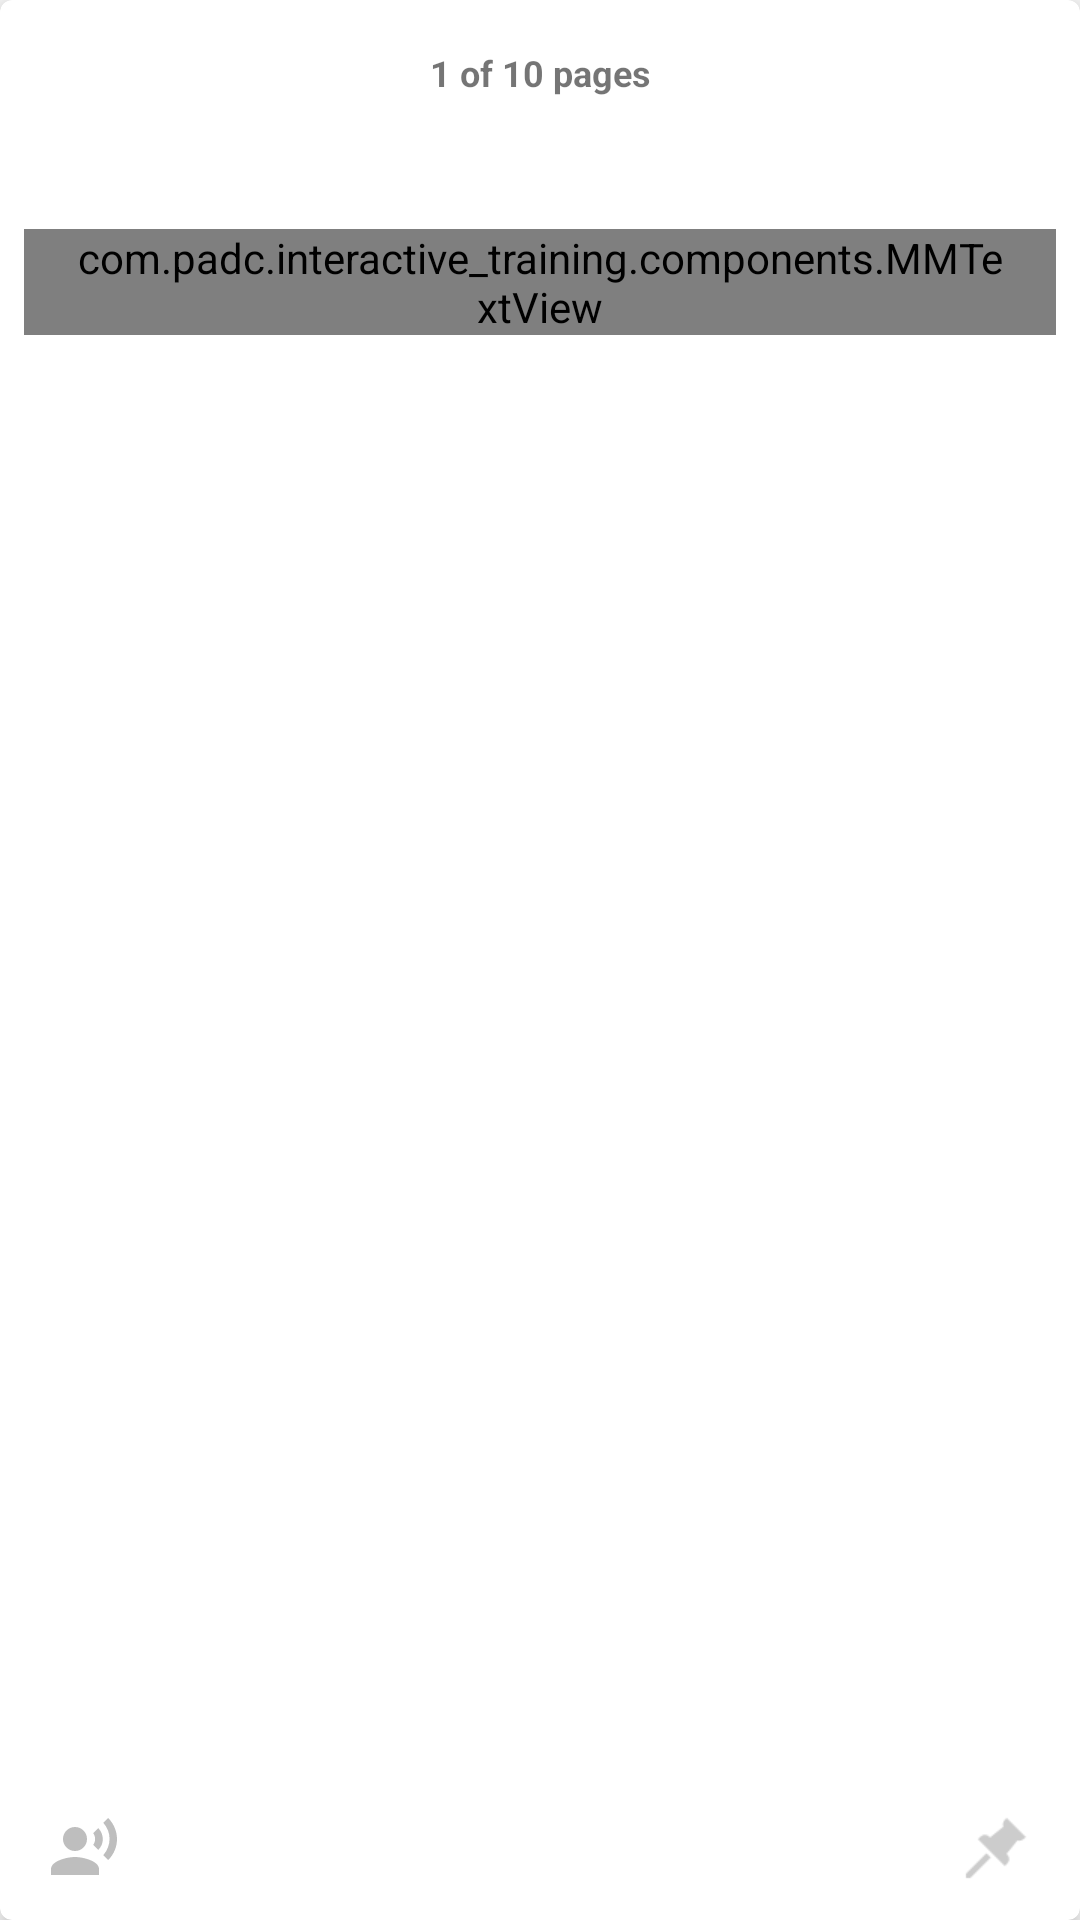

Point at icon controls on the screen. Image size 1080px x 1920px, points as point (x, y).
pin: point (995, 1848)
record voice over: point (84, 1846)
